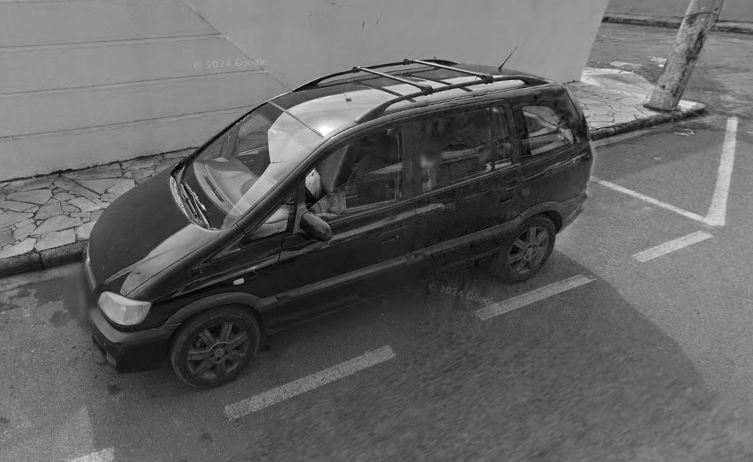car: (75, 53, 598, 394)
